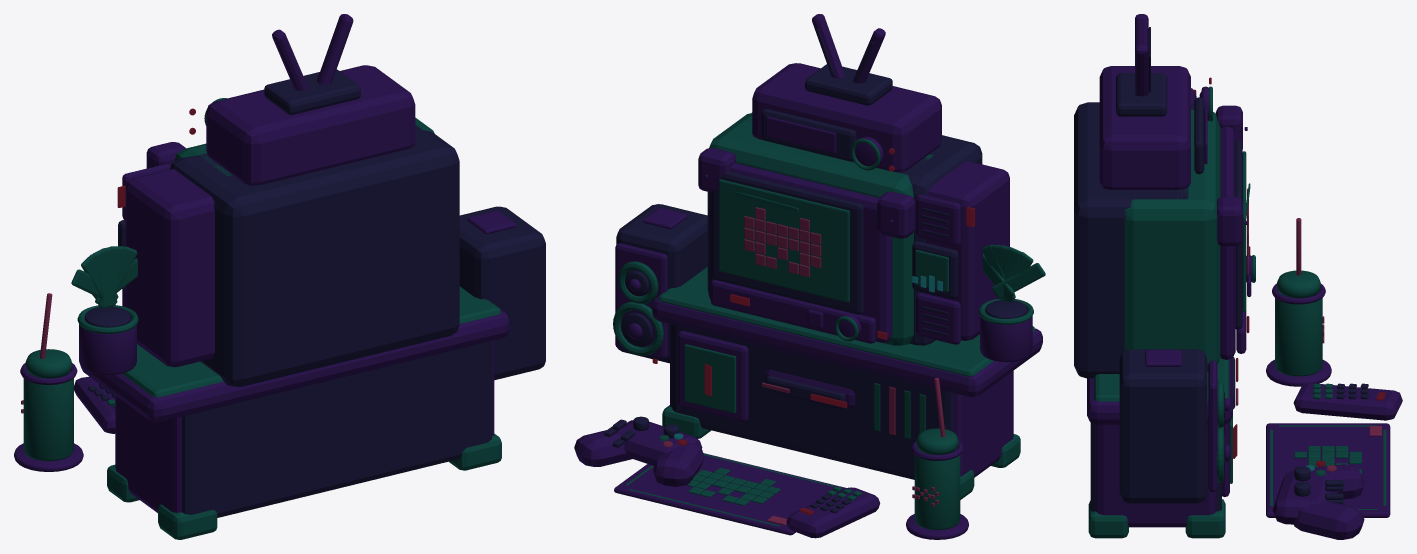
File: prp_base_retro_tv_station_visual_top3d_v002.glb
The picture shows the model from 3 angles, left to right: view 1: azimuth 30°, elevation 25°; view 2: azimuth 150°, elevation 25°; view 3: azimuth 270°, elevation 25°; orthographic projection. The views are drawn at different scales.
Visible parts, largest first — view 1: Body; view 2: Body, Emissive; view 3: Body, Emissive.
Part boxes in pixels (bbox=[...]): Body: bbox=[14, 14, 545, 539]; Body: bbox=[574, 14, 1045, 539]; Emissive: bbox=[652, 148, 974, 515]; Body: bbox=[1074, 14, 1402, 539]; Emissive: bbox=[1194, 77, 1385, 476].
Size of the model in its own units: 4.99 by 4.82 by 3.3.
Materials: 4 (4 with a texture image).
